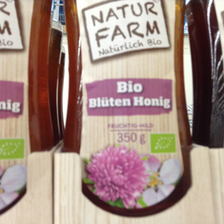honey: (64, 1, 197, 213)
